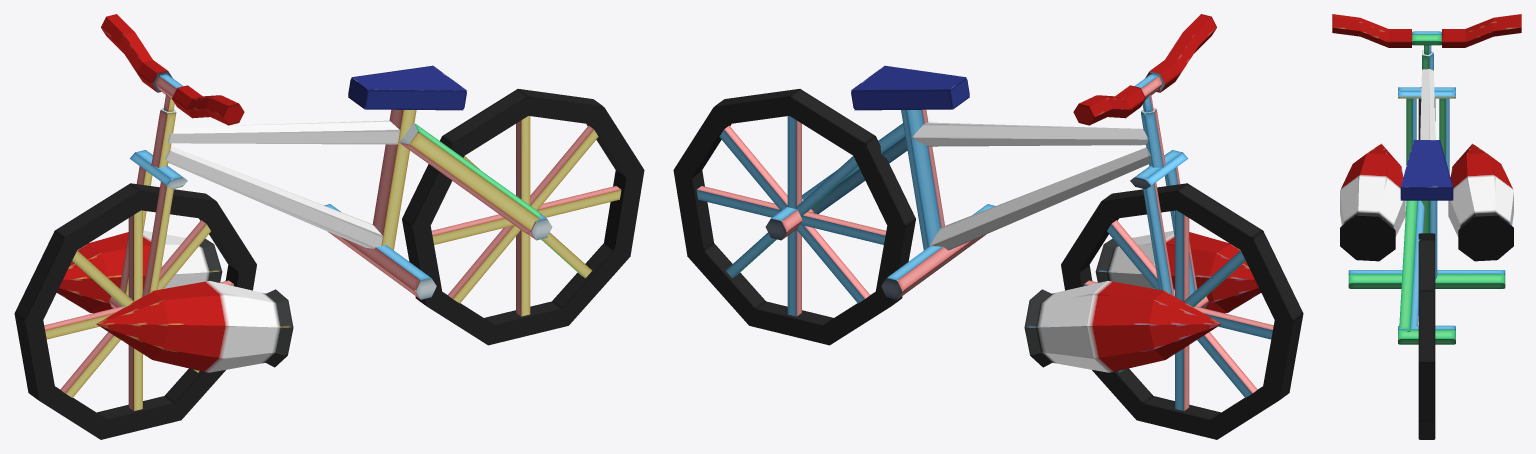
The model's file is cycle.fbx.
The picture shows the model from 3 angles, left to right: view 1: azimuth 30°, elevation 25°; view 2: azimuth 150°, elevation 25°; view 3: azimuth 270°, elevation 25°; orthographic projection. The views are drawn at different scales.
Parts seen in each view (by area): view 1: cylinder, cylinder_2, cylinder_14, back wheel, front wheel, cylinder_13, cylinder_7, cylinder_6, cycle, cylinder_4, cylinder_12, cylinder_5 (+4 smaller); view 2: cylinder, cylinder_2, cylinder_13, back wheel, front wheel, cylinder_14, cylinder_7, cylinder_6, cycle, cylinder_12, cylinder_5, cylinder_15 (+5 smaller); view 3: cylinder_13, cylinder_14, cylinder, cylinder_12, cycle, cylinder_15, cylinder_4, cylinder_6, cylinder_1, cylinder_9, cylinder_5, cylinder_8 (+2 smaller).
Boxes of the visible parts, x1,y1,x2,y2 form: cylinder: (402, 89, 644, 345); cylinder_2: (14, 183, 256, 439); cylinder_14: (96, 280, 293, 372); back wheel: (431, 116, 621, 316); front wheel: (44, 210, 233, 410); cylinder_13: (56, 230, 222, 313); cylinder_7: (165, 146, 382, 248); cylinder_6: (168, 120, 399, 144); cycle: (348, 65, 466, 110); cylinder_4: (399, 123, 541, 234); cylinder_12: (101, 14, 244, 125); cylinder_5: (372, 109, 416, 250); cylinder: (673, 89, 915, 345); cylinder_2: (1061, 183, 1303, 439); cylinder_13: (1024, 280, 1221, 372); back wheel: (696, 116, 886, 316); front wheel: (1084, 210, 1273, 410); cylinder_14: (1095, 231, 1261, 313); cylinder_7: (929, 147, 1150, 250); cylinder_6: (912, 122, 1148, 146); cycle: (851, 65, 969, 110); cylinder_12: (1073, 14, 1216, 125); cylinder_5: (901, 109, 944, 250); cylinder_15: (881, 204, 995, 299); cylinder_13: (1448, 143, 1513, 261); cylinder_14: (1340, 143, 1405, 261); cylinder: (1418, 233, 1435, 439); cylinder_12: (1332, 14, 1521, 47); cycle: (1400, 140, 1453, 200); cylinder_15: (1348, 270, 1505, 288); cylinder_4: (1399, 200, 1424, 331); cylinder_6: (1420, 69, 1435, 139); cylinder_1: (1398, 325, 1455, 344); cylinder_9: (1439, 98, 1449, 172); cylinder_5: (1421, 200, 1437, 279); cylinder_8: (1406, 98, 1416, 165).
Bounding box in the file's own units: 210 × 116 × 71.88.
Materials: 1 (1 with a texture image).
